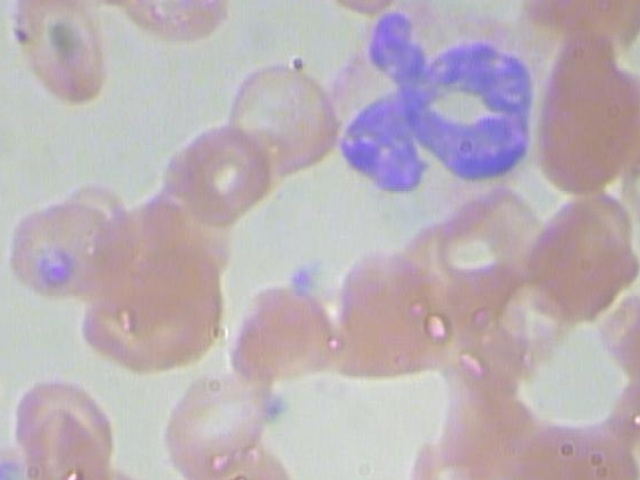Platelets: (281, 261, 323, 300)
RBC: (73, 238, 230, 383), (323, 244, 461, 381), (530, 23, 639, 196), (152, 358, 289, 479), (522, 184, 640, 321), (220, 55, 343, 177), (220, 280, 347, 392), (4, 193, 131, 304), (3, 0, 120, 108), (166, 118, 273, 223), (493, 412, 640, 480), (26, 399, 120, 480), (111, 0, 230, 51), (611, 94, 640, 230), (603, 355, 640, 459)
WBC: (311, 0, 559, 214)
